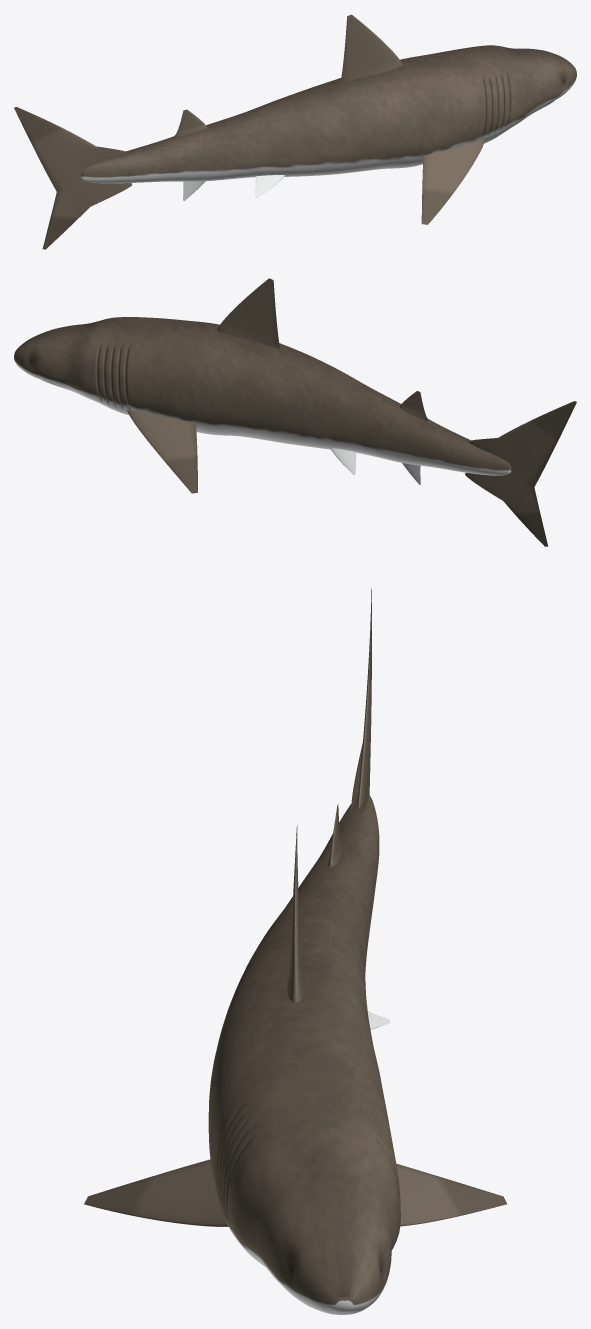
File: copper_shark.glb
The picture shows the model from 3 angles, top to bottom: view 1: azimuth 30°, elevation 25°; view 2: azimuth 150°, elevation 25°; view 3: azimuth 270°, elevation 25°; orthographic projection. The views are drawn at different scales.
Parts seen in each view (by area): view 1: copper_shark_Body, copper_shark_Fins; view 2: copper_shark_Body, copper_shark_Fins; view 3: copper_shark_Body, copper_shark_Fins.
Part boxes in pixels (x1,y1,x2,y2): copper_shark_Body: [81, 45, 576, 183]; copper_shark_Fins: [14, 14, 484, 249]; copper_shark_Body: [14, 317, 511, 475]; copper_shark_Fins: [127, 278, 576, 546]; copper_shark_Body: [208, 794, 400, 1314]; copper_shark_Fins: [84, 588, 506, 1226].
Bounding box in the file's own units: 2.7 × 0.8309 × 0.893.
Materials: 3 (1 with a texture image).
